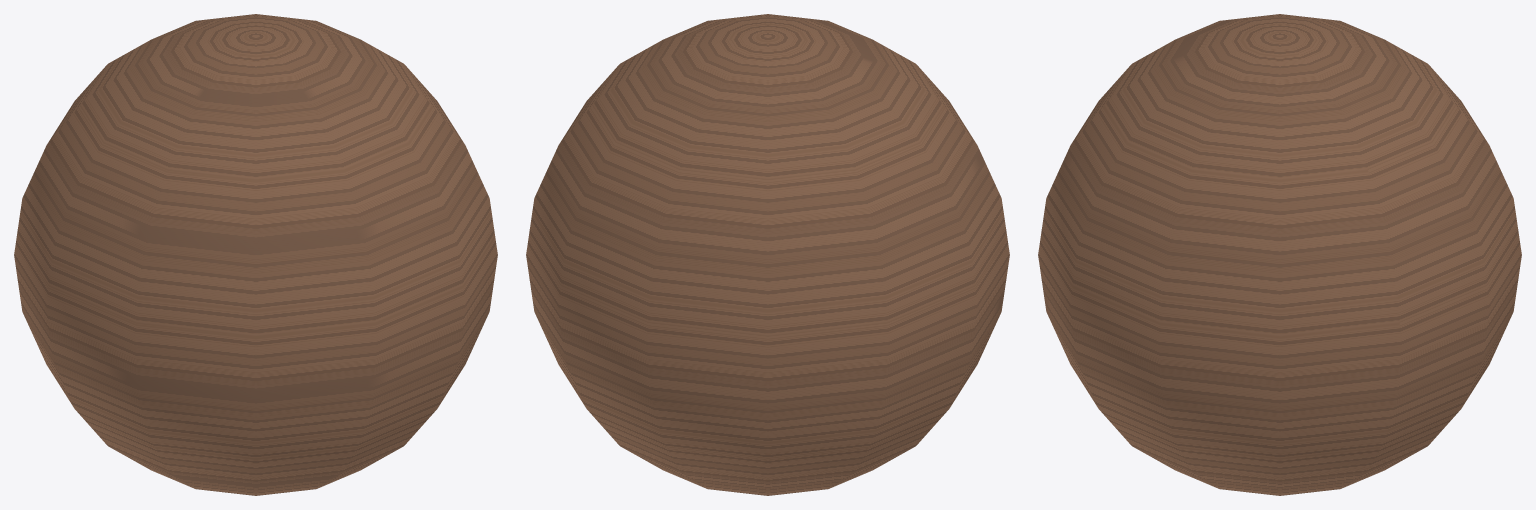
Rendered from ball.glb.
3 renders of one model, left to right at view 1: azimuth 30°, elevation 25°; view 2: azimuth 150°, elevation 25°; view 3: azimuth 270°, elevation 25°, orthographic.
Visible parts, largest first — view 1: ball; view 2: ball; view 3: ball.
Part boxes in pixels (<box>): ball: <box>14,14,497,495</box>; ball: <box>526,14,1009,495</box>; ball: <box>1038,14,1521,495</box>.
Size of what is drawn, in the model's own units: 0.2 by 0.2 by 0.2.
1 material, 1 textured.
